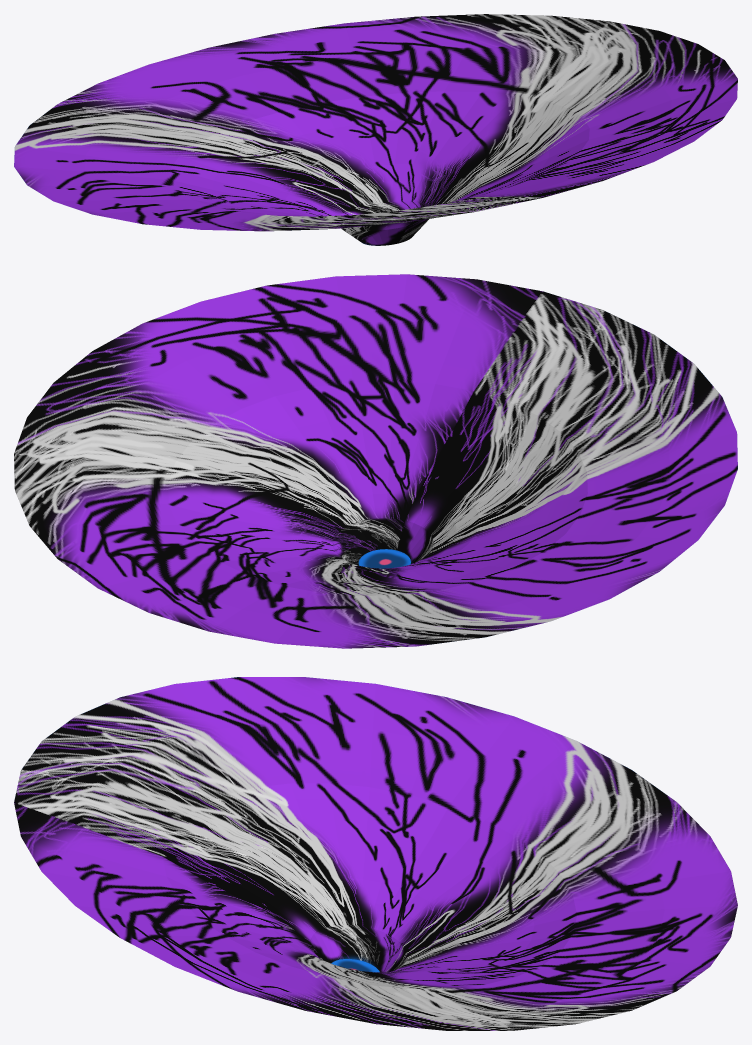
The model's file is WarpHoleEntrance.fbx.
3 renders of one model, top to bottom at view 1: azimuth 30°, elevation 25°; view 2: azimuth 150°, elevation 25°; view 3: azimuth 270°, elevation 25°, orthographic. The views are drawn at different scales.
Visible parts, largest first — view 1: WarpHoleEntrance; view 2: WarpHoleEntrance; view 3: WarpHoleEntrance.
Boxes of the visible parts, bbox=[...] form: WarpHoleEntrance: bbox=[14, 14, 737, 245]; WarpHoleEntrance: bbox=[14, 274, 737, 648]; WarpHoleEntrance: bbox=[14, 677, 737, 1030].
Bounding box in the file's own units: 224 × 52.92 × 202.
